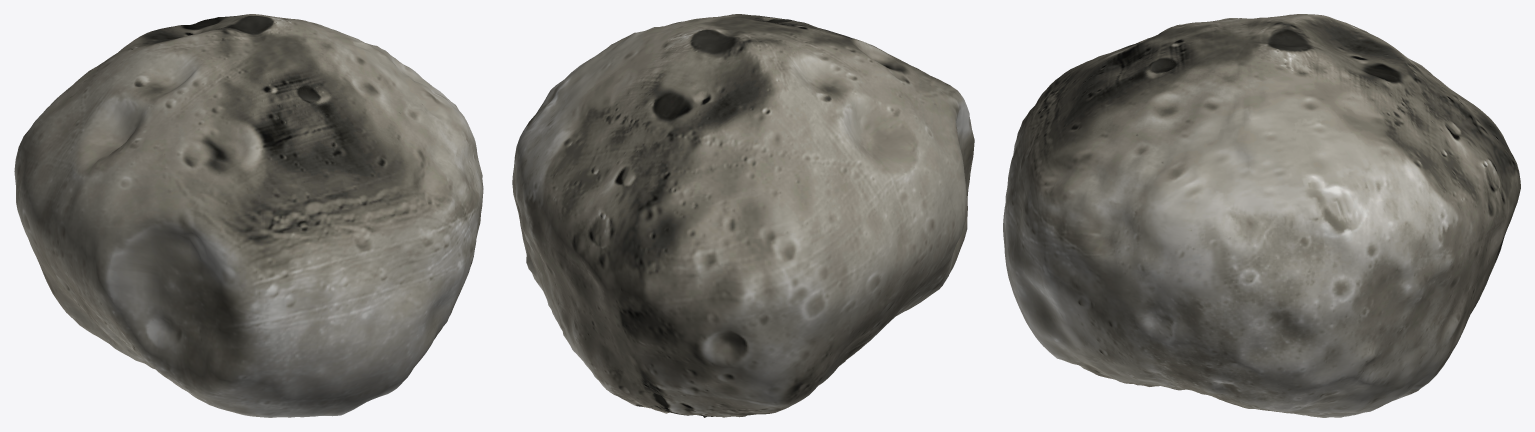
Rendered from phobos.obj.
3 renders of one model, left to right at view 1: azimuth 30°, elevation 25°; view 2: azimuth 150°, elevation 25°; view 3: azimuth 270°, elevation 25°, orthographic. The views are drawn at different scales.
Visible parts, largest first — view 1: obj1; view 2: obj1; view 3: obj1.
Part boxes in pixels (x1,y1,x2,y2): obj1: [14, 14, 483, 417]; obj1: [512, 14, 974, 417]; obj1: [1003, 14, 1520, 417].
Size of the model in its own units: 24.37 by 20.52 by 27.04.
